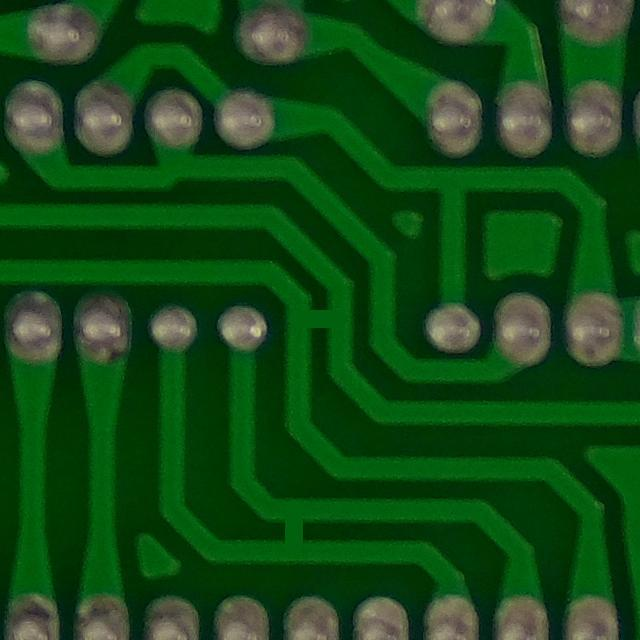short: (276, 280, 365, 360)
